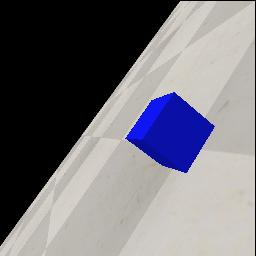box: (125, 92, 215, 173)
